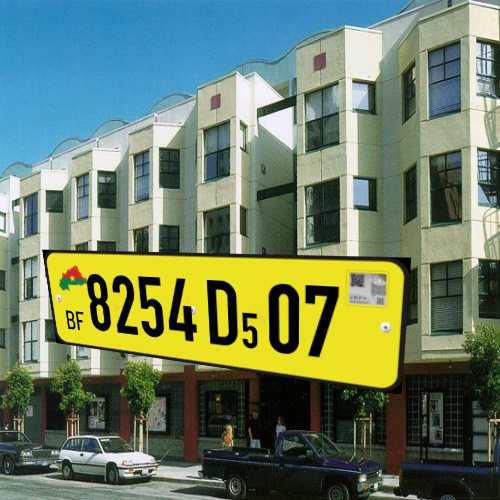plate: (25, 233, 428, 397)
